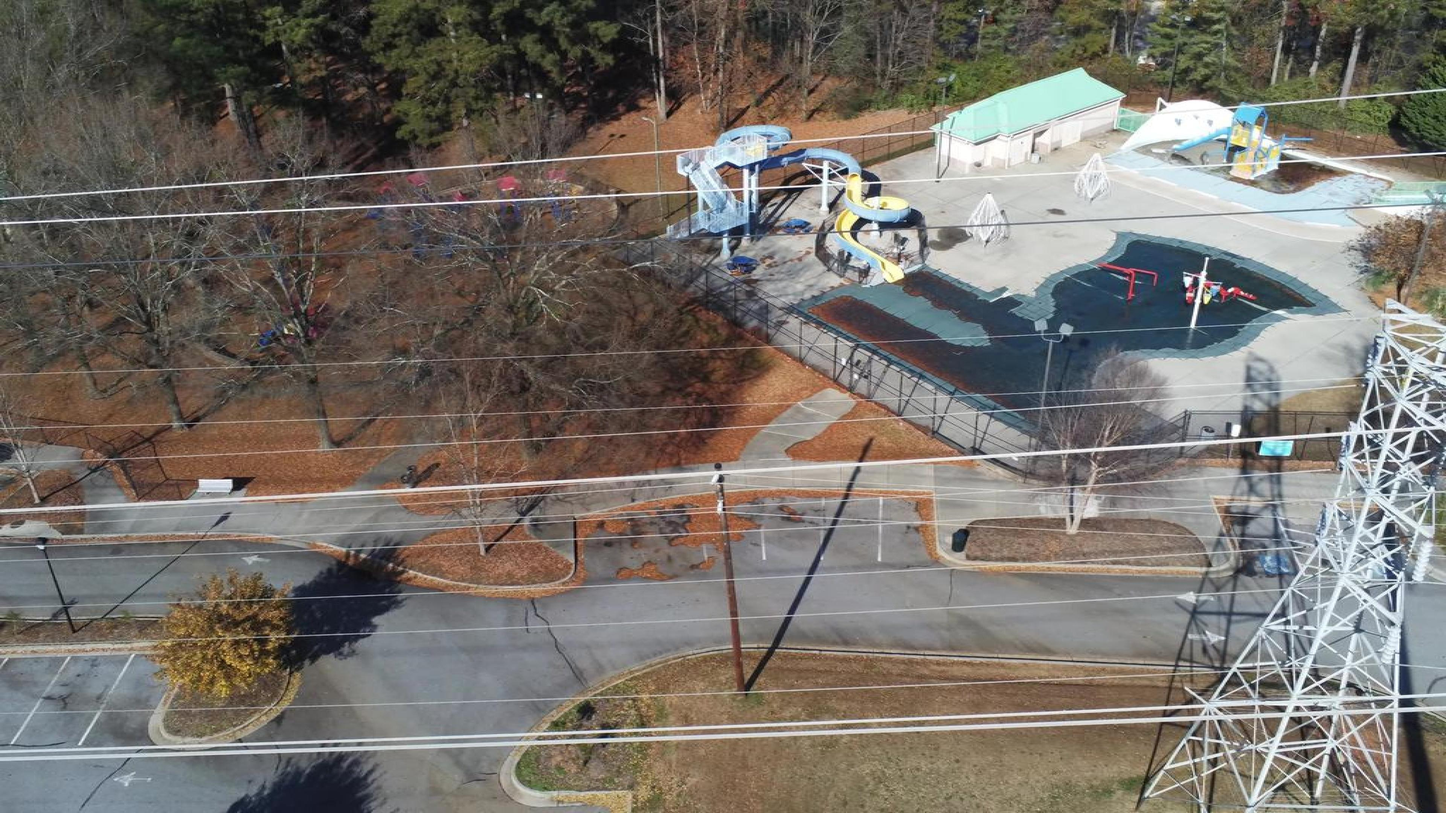power_tower: (1133, 291, 1446, 813)
